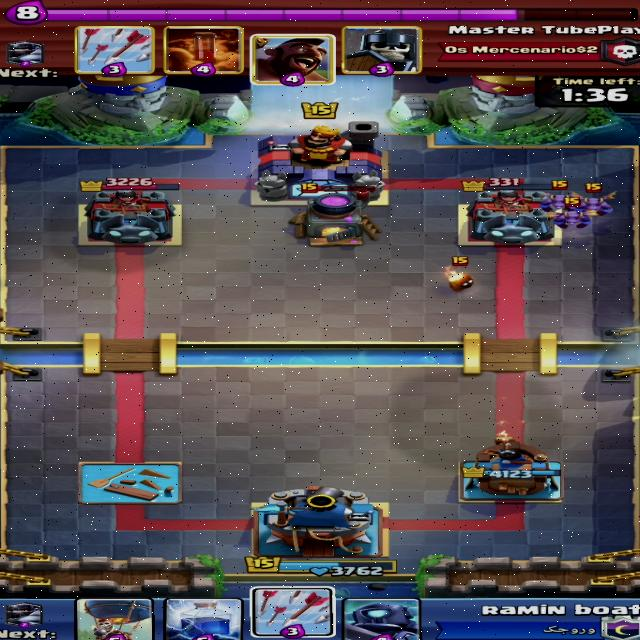Enemy-FireSpirit: (442, 256, 476, 293)
Enemy-Furnace: (288, 182, 383, 247)
Enemy-Minion: (569, 183, 618, 216), (539, 180, 581, 212), (553, 196, 592, 230)
